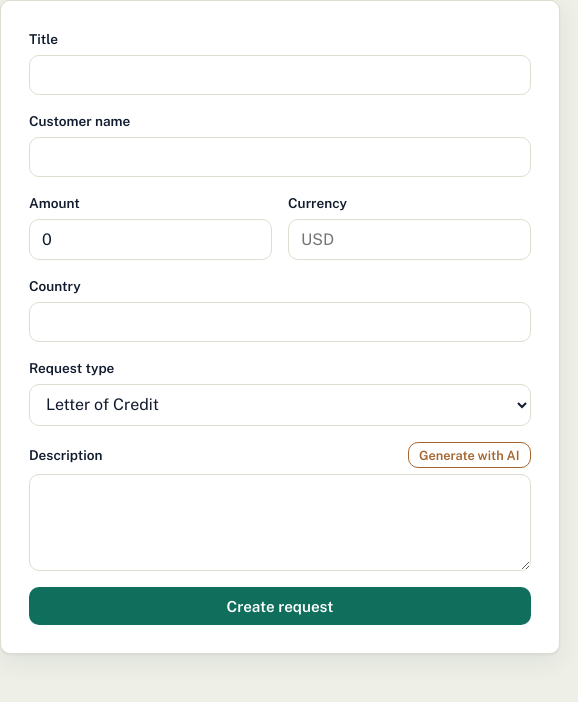
Test: <TradeForm /> › shows an inline notice instead of crashing when AI generation is unavailable
The width and height of the screenshot is (578, 702).
Type "Import shipment financing" into the field labelled "Title". click: (280, 75)
box: [29,55,531,95]
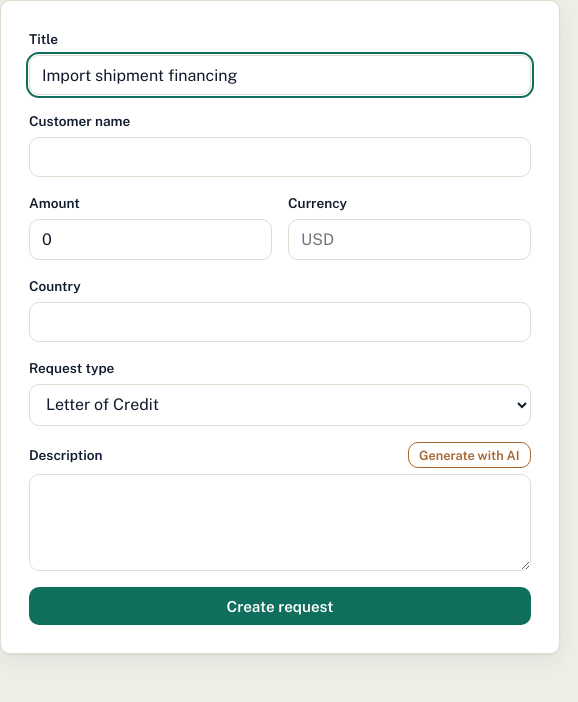
Click the button "Generate with AI". click: (469, 455)
box: [408,442,531,468]
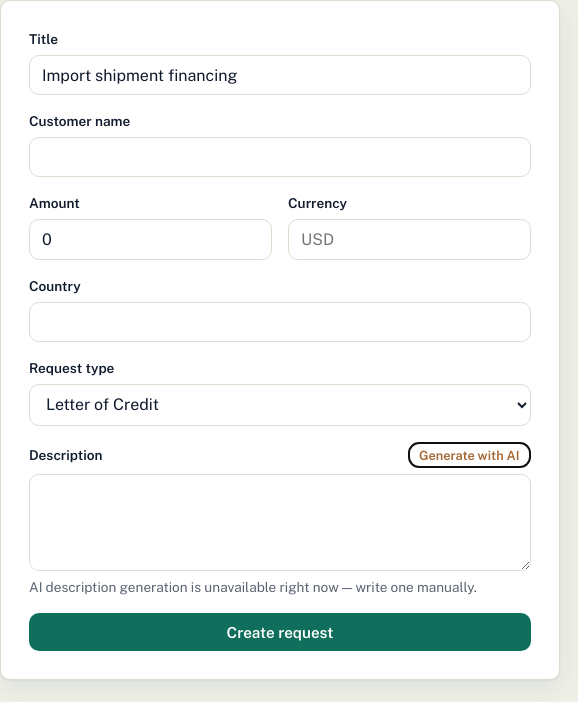
Expected: the message shows "unavailable", [29,579,477,595]
